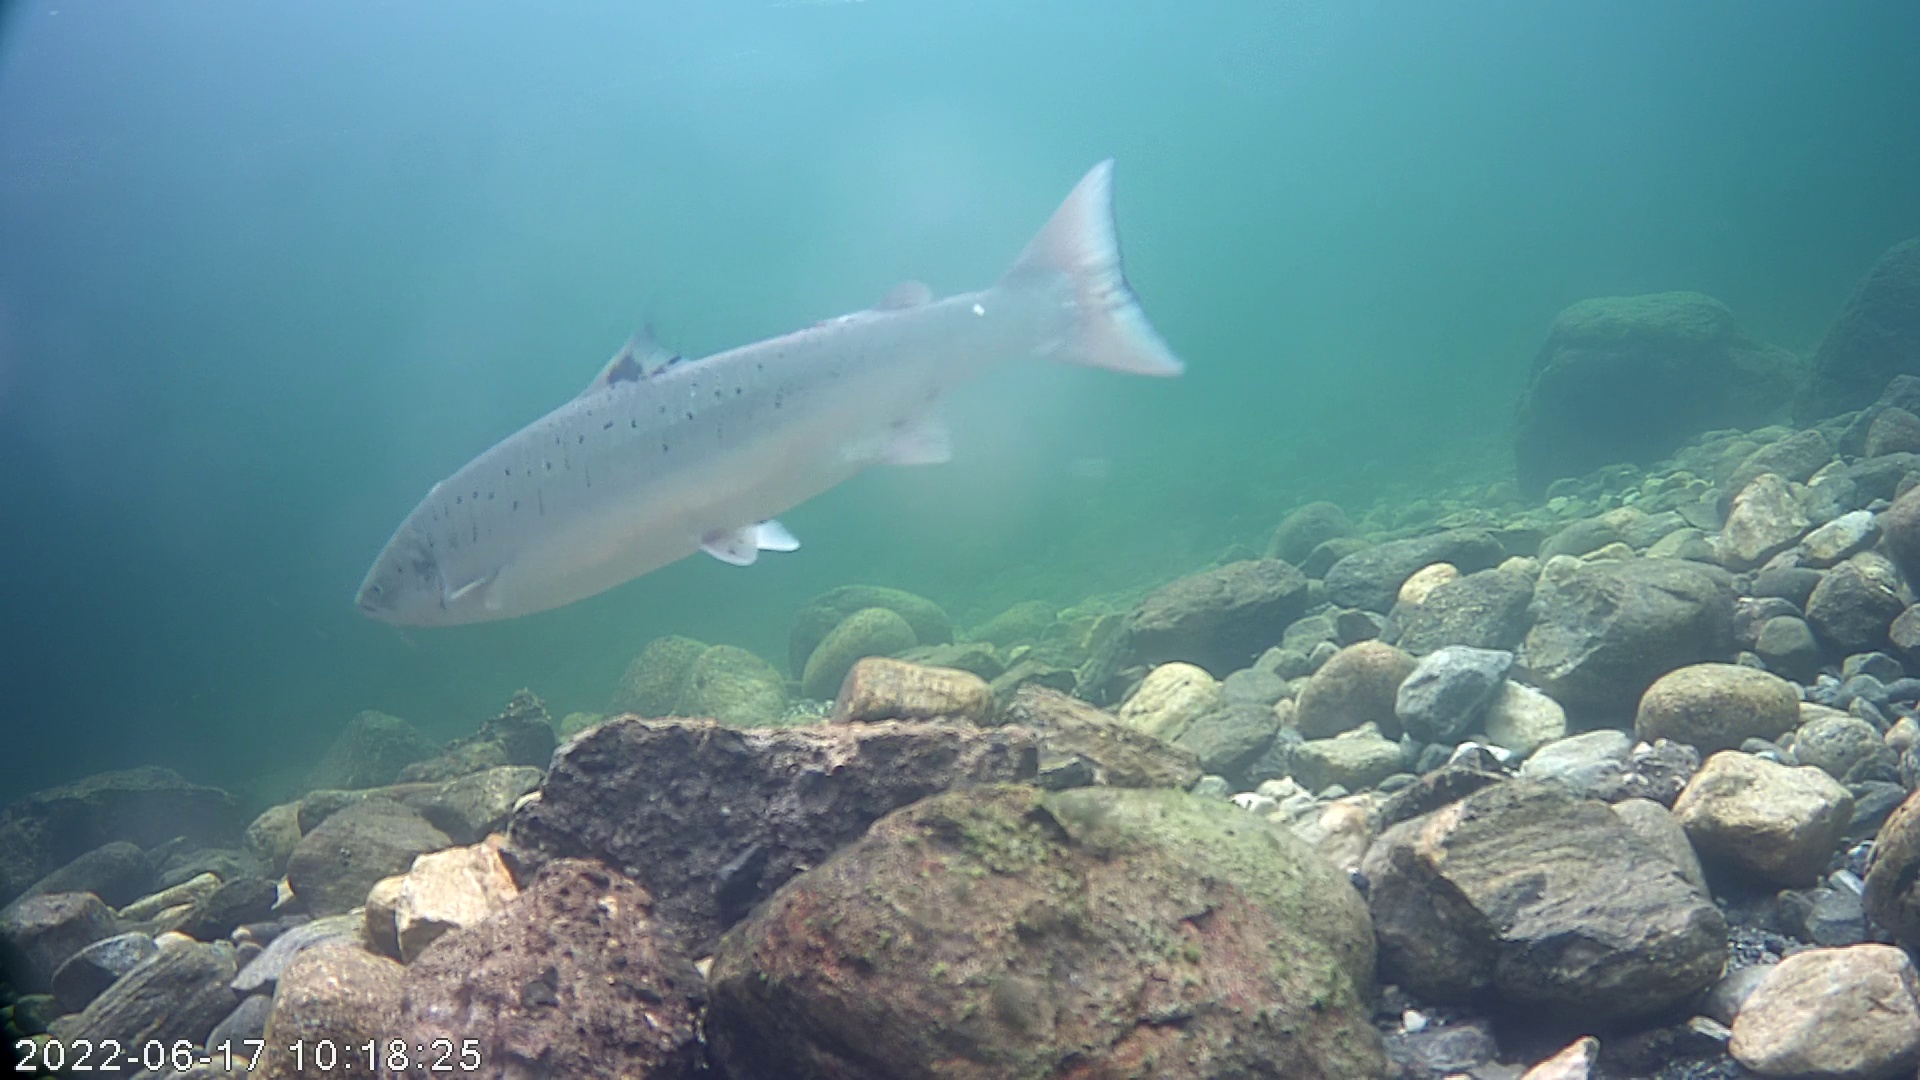salmon: (348, 153, 1196, 632)
